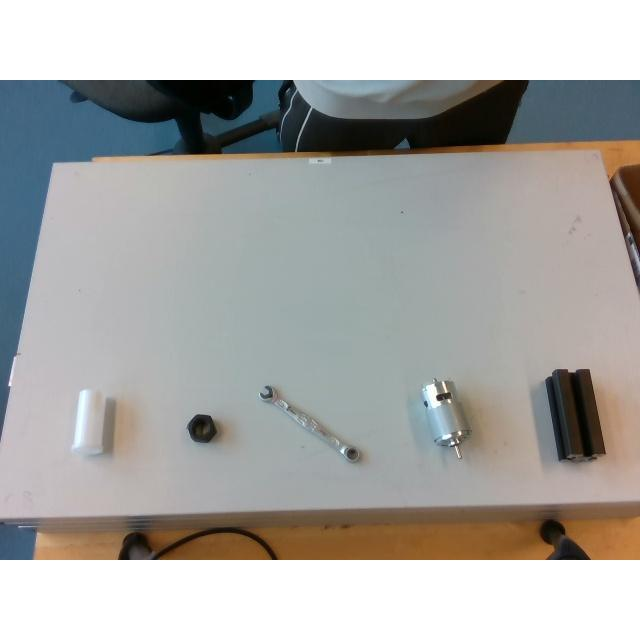M20: (188, 414, 216, 442)
Motor2: (422, 378, 471, 458)
S40_40_B: (545, 368, 603, 459)
Spacer: (71, 389, 109, 453)
Wrench: (258, 386, 362, 462)
